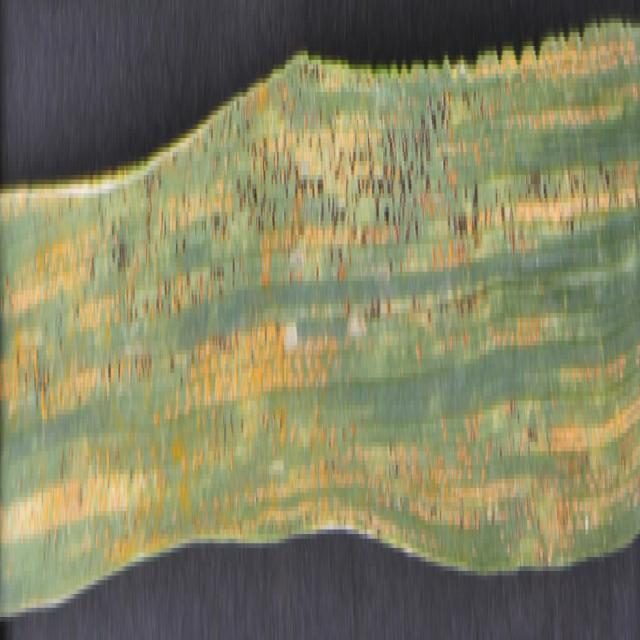leaf rust: (0, 27, 640, 543)
